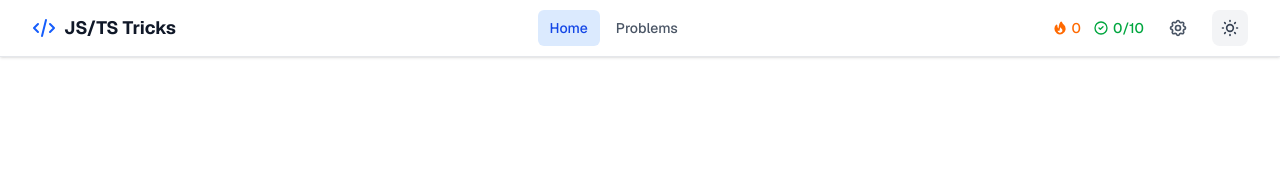
Test case: Navbar › Settings Menu Toggle › should show settings dropdown when settings button is clicked
This screenshot has width=1280, height=171.
Click the button named "settings".
click(1178, 28)  # box [1160,10,1196,46]
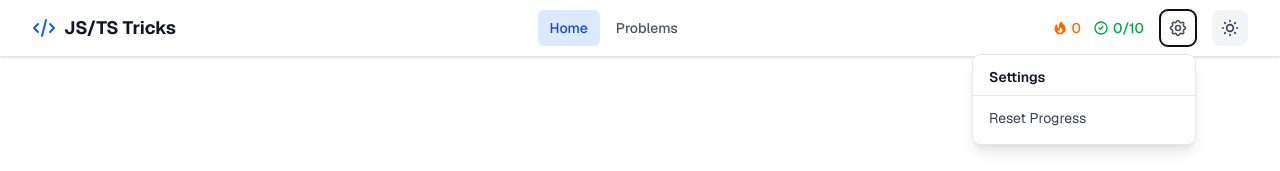
Result: the text "Settings" is shown at [989,68,1045,86]
